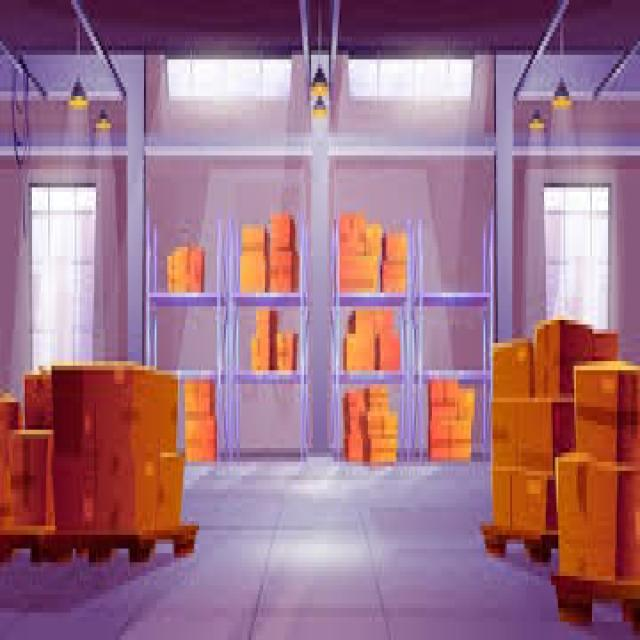box: (52, 362, 177, 530), (52, 362, 177, 452), (557, 453, 639, 580), (575, 362, 639, 466), (95, 439, 159, 534), (534, 320, 593, 397), (518, 398, 575, 475), (11, 430, 55, 525), (557, 453, 590, 575), (587, 462, 620, 580), (54, 453, 97, 530), (512, 467, 556, 534), (617, 467, 639, 580), (493, 339, 533, 397), (157, 453, 184, 530), (493, 398, 522, 466), (24, 371, 53, 429), (340, 252, 380, 292), (185, 416, 216, 461), (491, 467, 513, 530), (269, 247, 298, 292), (240, 252, 268, 292), (184, 380, 215, 415), (345, 334, 375, 370), (340, 215, 366, 255), (271, 211, 295, 251), (0, 394, 21, 438), (168, 247, 188, 292), (377, 334, 401, 370), (187, 247, 204, 292), (383, 261, 407, 292), (594, 330, 618, 361), (242, 224, 266, 255), (384, 234, 407, 265), (365, 384, 389, 411), (278, 334, 296, 370), (251, 339, 271, 370), (256, 311, 277, 338), (457, 389, 474, 420), (367, 224, 383, 255), (429, 403, 458, 420), (443, 380, 460, 406), (429, 380, 444, 406)
